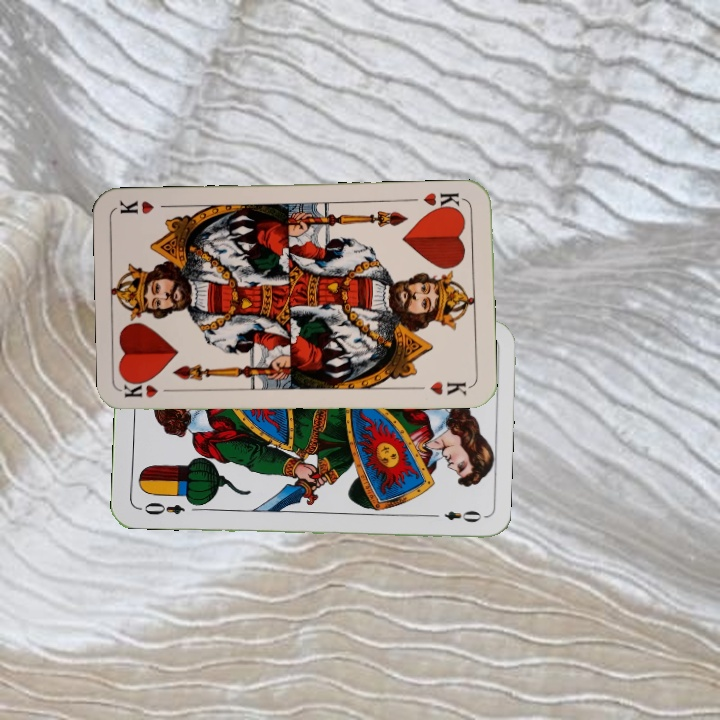EO: (140, 498, 187, 518)
HK: (121, 380, 181, 400), (419, 188, 463, 214)
